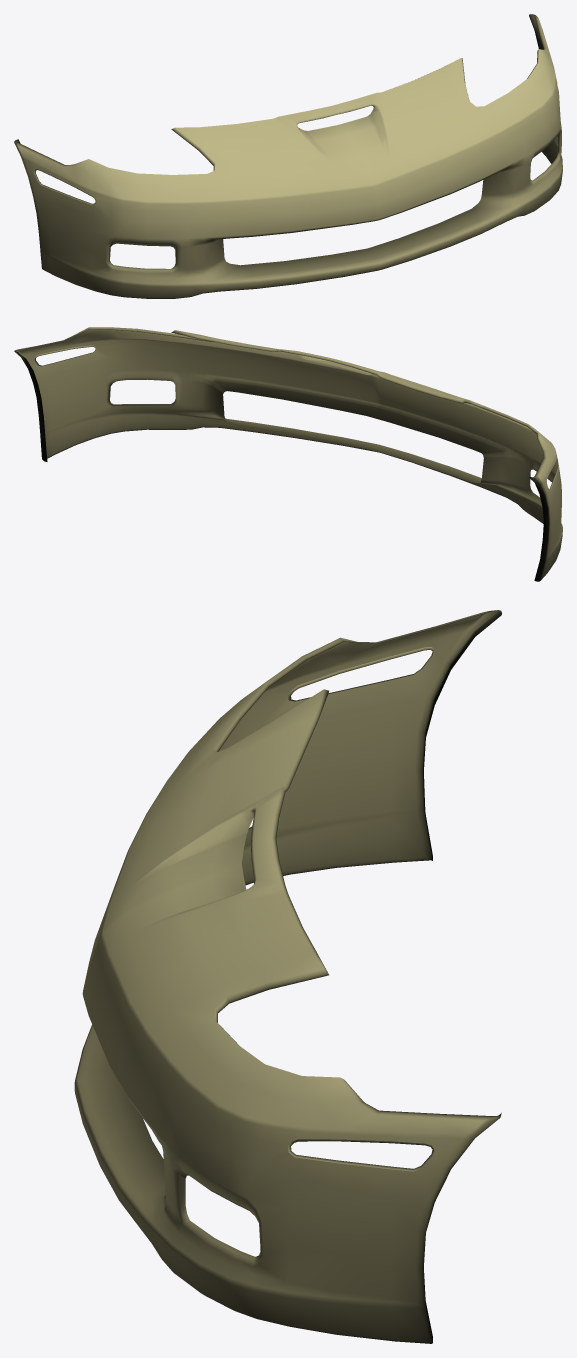
File: Zr1_FB_04_Duco.fbx
3 views of the same model, one above another, from view 1: azimuth 30°, elevation 25°; view 2: azimuth 150°, elevation 25°; view 3: azimuth 270°, elevation 25° (orthographic). The views are drawn at different scales.
Parts seen in each view (by area): view 1: Zr1_FB_04_Duco; view 2: Zr1_FB_04_Duco; view 3: Zr1_FB_04_Duco.
Part boxes in pixels (box(x1,y1,x2,y2)): Zr1_FB_04_Duco: box(14, 14, 562, 298); Zr1_FB_04_Duco: box(14, 327, 562, 581); Zr1_FB_04_Duco: box(74, 610, 501, 1343).
Size of the model in its own units: 188 by 47.09 by 66.78.
